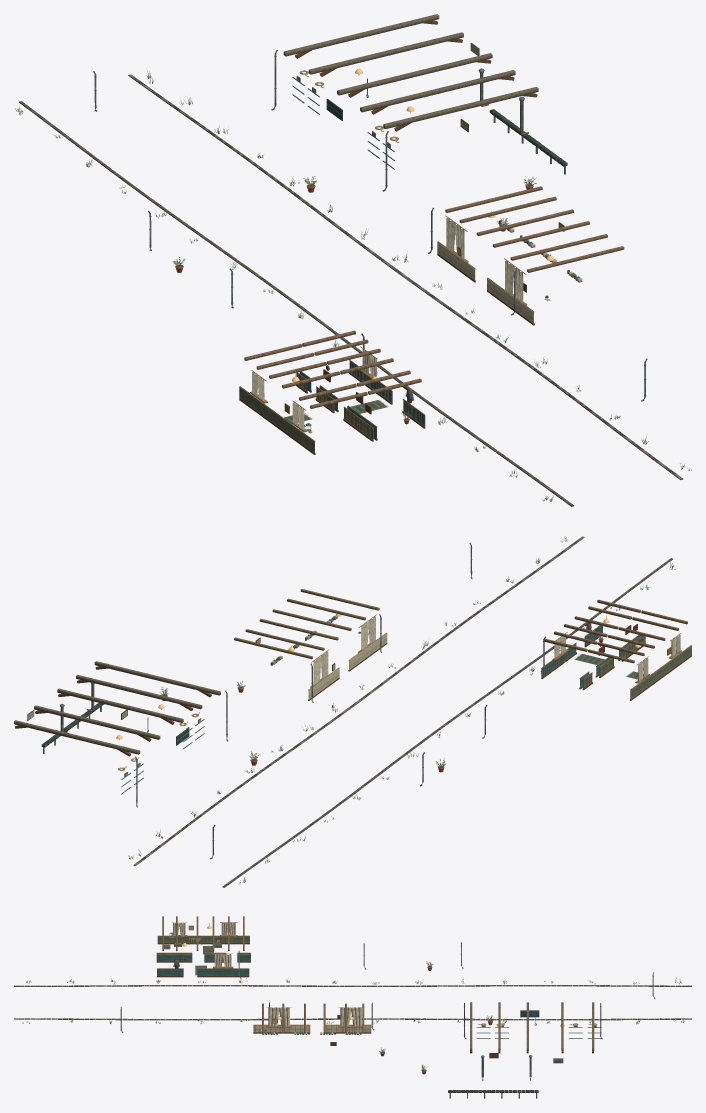
Rendered from coastal_street.glb.
3 views of the same model, one above another, from view 1: azimuth 30°, elevation 25°; view 2: azimuth 150°, elevation 25°; view 3: azimuth 270°, elevation 25° (orthographic). The views are drawn at different scales.
Visible parts, largest first — view 1: Straßenränder, Fallrohre und Hafenbögen, Fischerhaus · Eichentäfelung und Stube, Netzhalle · Balken, Rolle und Packstation, Proviantladen · Regale und Ladentheke; view 2: Straßenränder, Fallrohre und Hafenbögen, Fischerhaus · Eichentäfelung und Stube, Netzhalle · Balken, Rolle und Packstation, Proviantladen · Regale und Ladentheke; view 3: Straßenränder, Fallrohre und Hafenbögen, Fischerhaus · Eichentäfelung und Stube, Proviantladen · Regale und Ladentheke, Netzhalle · Balken, Rolle und Packstation.
Part boxes in pixels (box(x1,y1,x2,y2)): Straßenränder, Fallrohre und Hafenbögen: box(15, 50, 691, 506); Fischerhaus · Eichentäfelung und Stube: box(239, 330, 425, 454); Netzhalle · Balken, Rolle und Packstation: box(283, 14, 538, 169); Proviantladen · Regale und Ladentheke: box(437, 186, 624, 325); Straßenränder, Fallrohre und Hafenbögen: box(41, 536, 675, 887); Fischerhaus · Eichentäfelung und Stube: box(541, 599, 691, 700); Netzhalle · Balken, Rolle und Packstation: box(14, 661, 220, 794); Proviantladen · Regale und Ladentheke: box(234, 589, 387, 700); Straßenränder, Fallrohre und Hafenbögen: box(14, 942, 691, 1098); Fischerhaus · Eichentäfelung und Stube: box(156, 916, 250, 977); Proviantladen · Regale und Ladentheke: box(253, 1003, 371, 1045); Netzhalle · Balken, Rolle und Packstation: box(470, 1002, 601, 1063).
Size of the model in its own units: 31.39 by 4.69 by 61.23.
37 materials, 23 textured.
